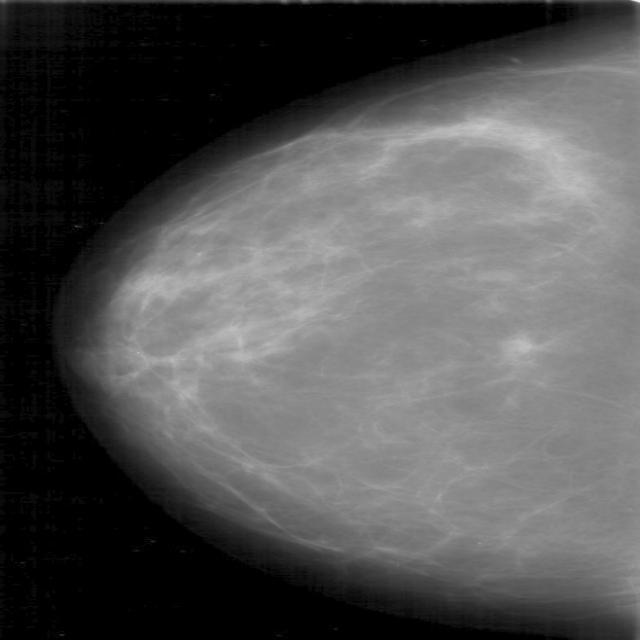tumour: (501, 332, 529, 354)
